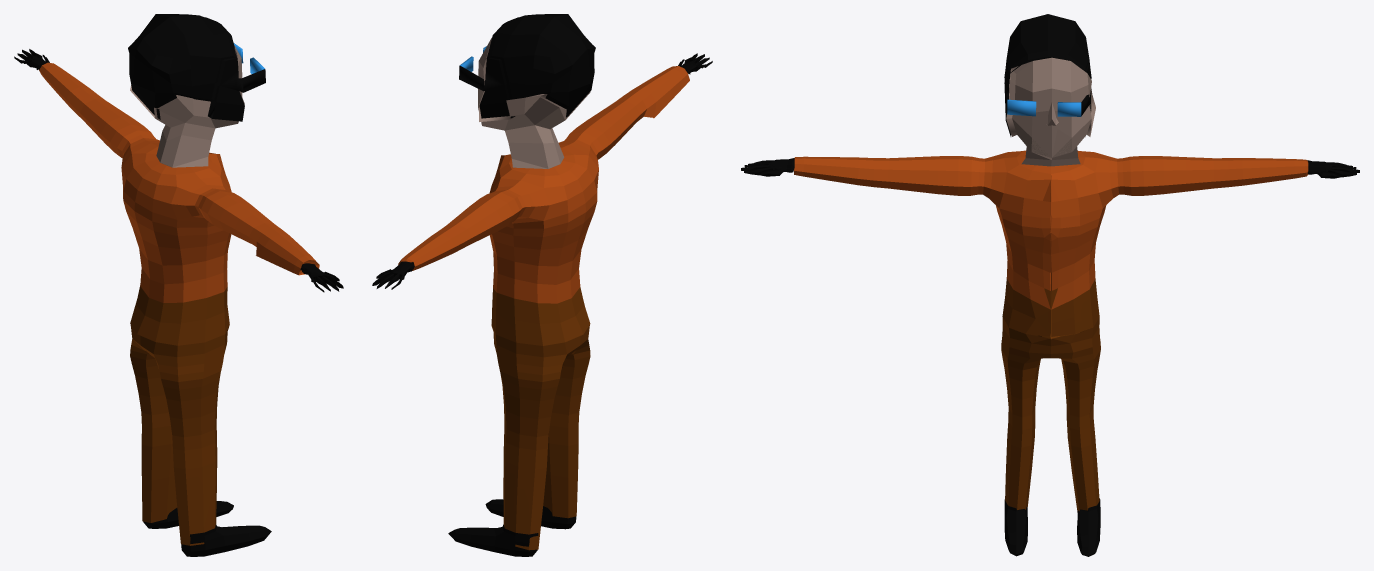
Rendered from BlendChasseur.fbx.
3 views of the same model, side by side, from view 1: azimuth 30°, elevation 25°; view 2: azimuth 150°, elevation 25°; view 3: azimuth 270°, elevation 25° (orthographic). The views are drawn at different scales.
Parts seen in each view (by area): view 1: Futal, casque de chasseur, ternier, Chaussure; view 2: Futal, casque de chasseur, ternier, Chaussure; view 3: Futal, ternier, casque de chasseur, Chaussure.
Boxes of the visible parts, left/top/right/bottom form: Futal: left=39, top=62, right=319, bottom=545; casque de chasseur: left=128, top=14, right=265, bottom=121; ternier: left=14, top=45, right=343, bottom=292; Chaussure: left=143, top=501, right=271, bottom=556; Futal: left=398, top=66, right=689, bottom=550; casque de chasseur: left=459, top=14, right=595, bottom=118; ternier: left=372, top=38, right=712, bottom=289; Chaussure: left=448, top=499, right=576, bottom=556; Futal: left=794, top=150, right=1308, bottom=512; ternier: left=741, top=57, right=1359, bottom=178; casque de chasseur: left=1004, top=14, right=1091, bottom=136; Chaussure: left=1004, top=498, right=1100, bottom=556.
Size of the model in its own units: 140 by 581 by 641.
